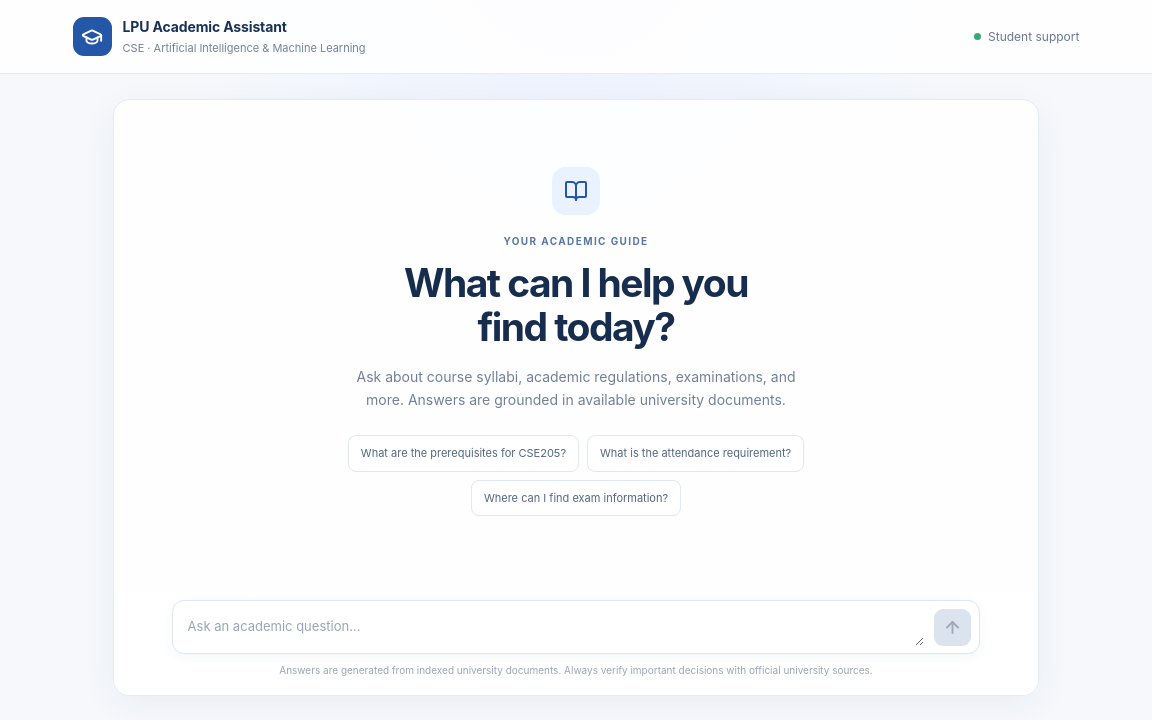
Test: chat interface › renders sufficient evidence response from the API
The width and height of the screenshot is (1152, 720).
Step 1. Type "Tell me about the policy" into the text box named "Your question" → (556, 627), box [188,608,924,646]
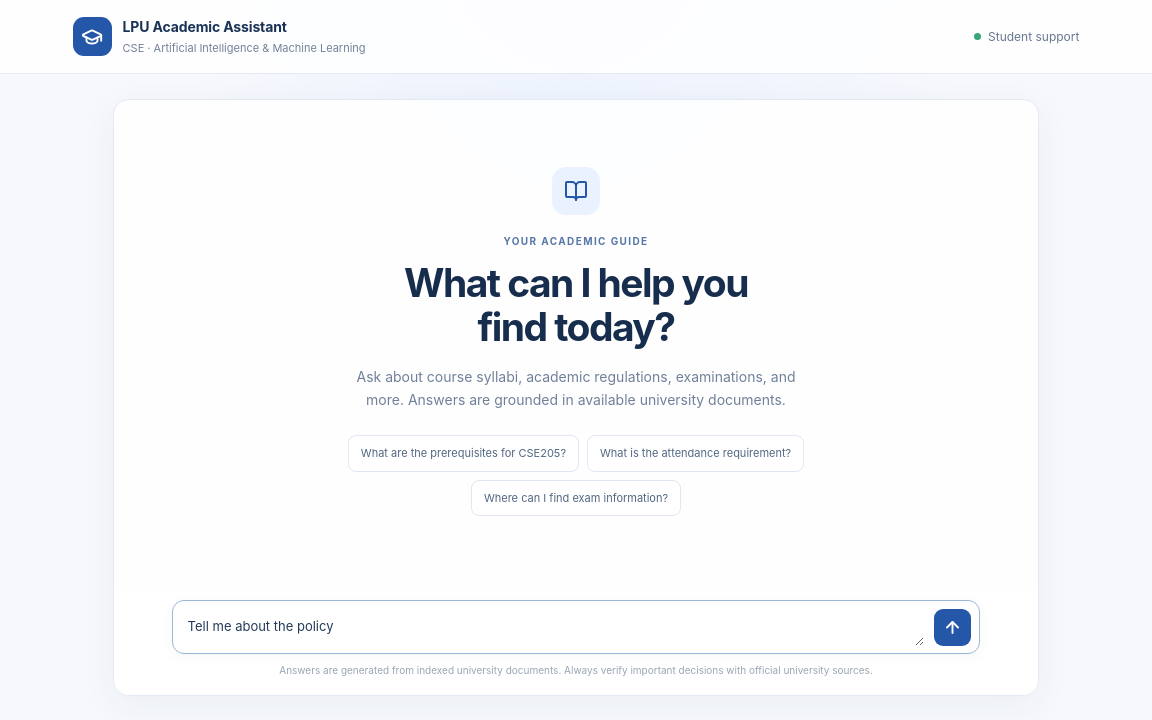
Step 2. Click the button named "Send message" → (953, 628), box [934,609,971,646]
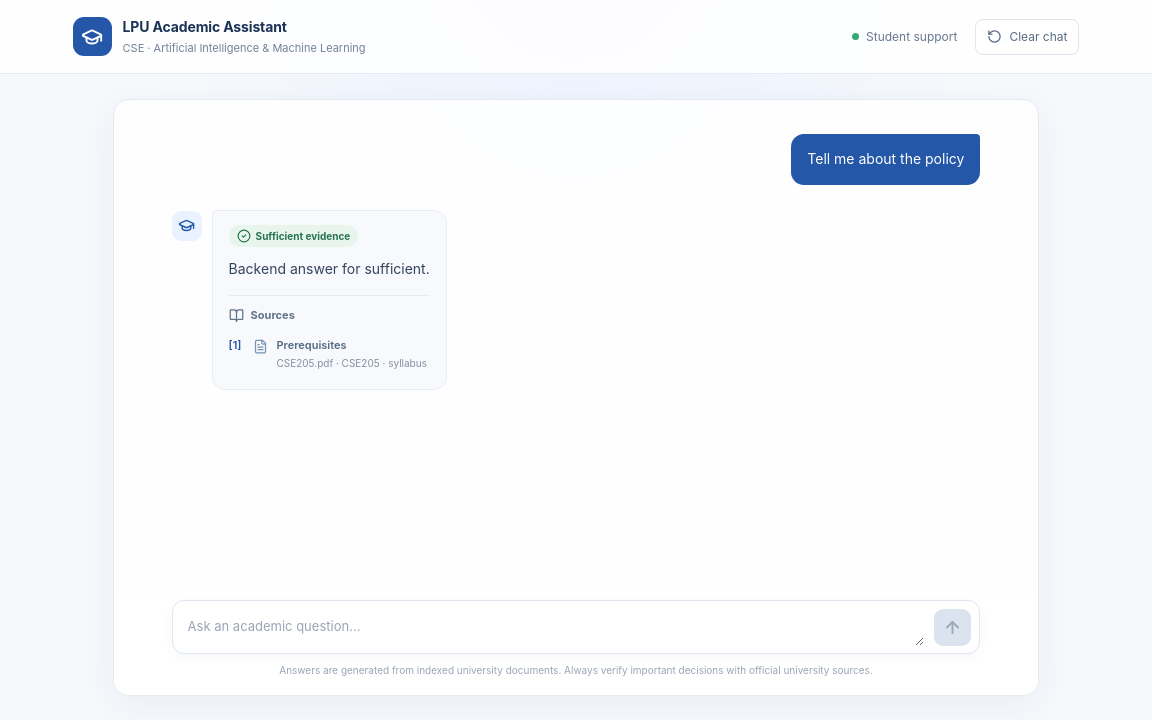
Check: the text "Prerequisites" is shown, box [276,338,347,352]
Check: the text "Sufficient evidence" is shown, box [229,225,358,247]
Check: the element labelled "Sources" shows "CSE205.pdf", box [276,357,427,369]
